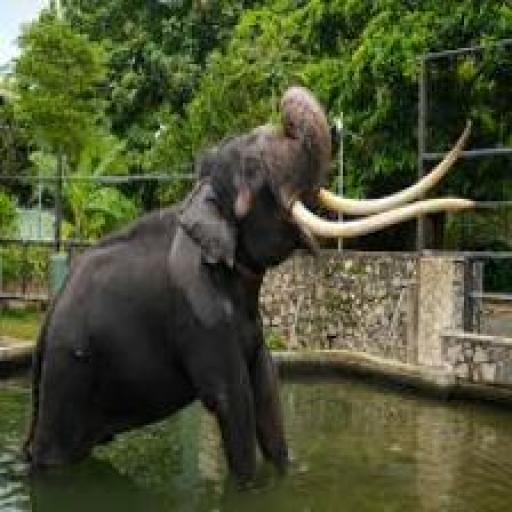Elephant: (20, 37, 492, 504)
